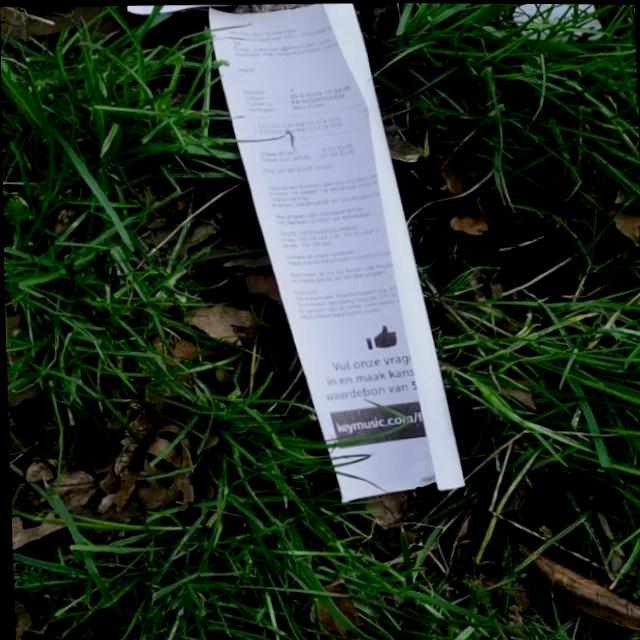Paper: (206, 1, 469, 505), (508, 3, 603, 43), (123, 1, 269, 15)
